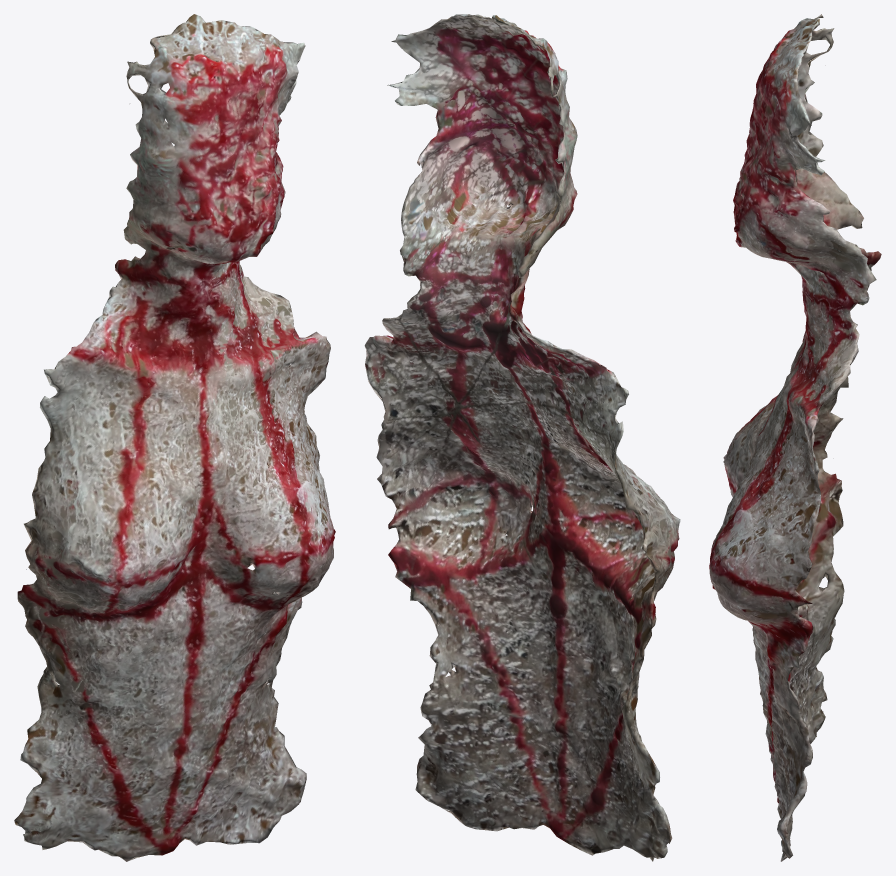
Rendered from FA-003-backup-raw.glb.
3 renders of one model, left to right at view 1: azimuth 30°, elevation 25°; view 2: azimuth 150°, elevation 25°; view 3: azimuth 270°, elevation 25°, orthographic. The views are drawn at different scales.
Parts seen in each view (by area): view 1: submesh; view 2: submesh; view 3: submesh.
Part boxes in pixels (x1,y1,x2,y2): submesh: [14, 14, 335, 861]; submesh: [364, 14, 680, 861]; submesh: [709, 14, 881, 861].
Size of the model in its own units: 0.2869 by 0.7312 by 0.1392.
Materials: 1 (1 with a texture image).
